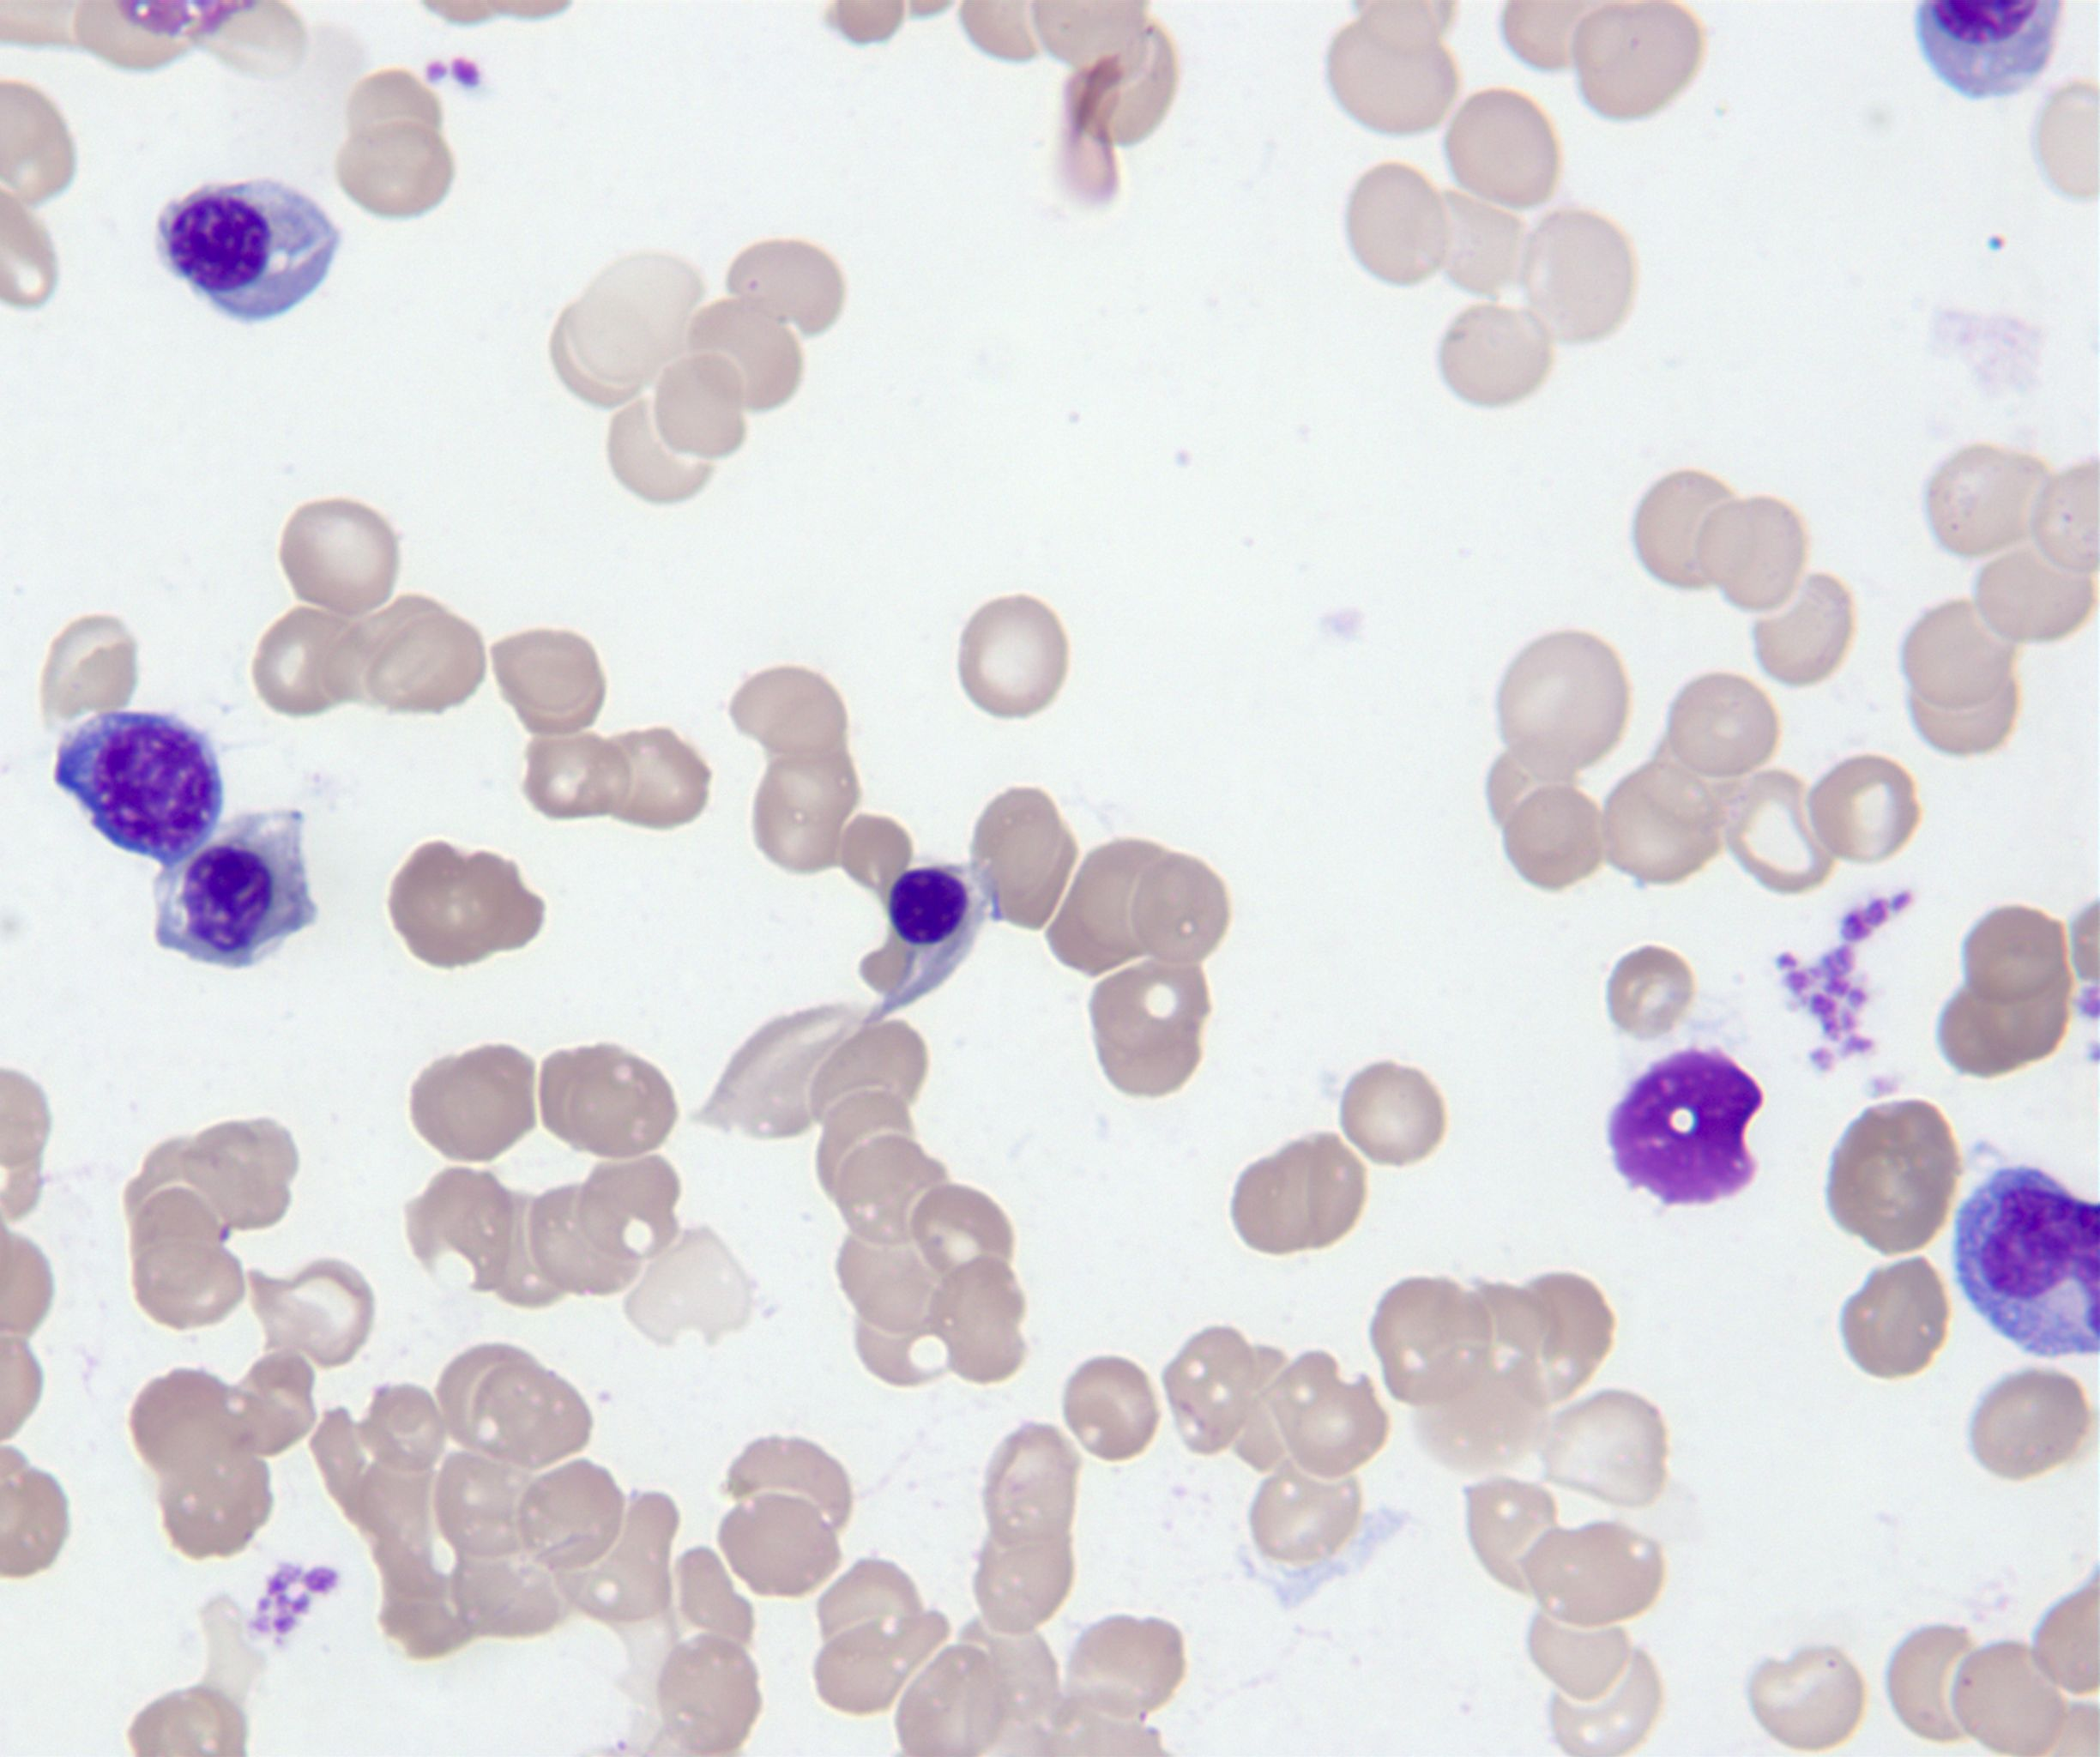23: (56, 710, 222, 867)
24: (157, 178, 338, 321), (157, 811, 314, 968), (865, 865, 978, 1024)
x: (1955, 1167, 2100, 1357), (1612, 1049, 1762, 1202)
